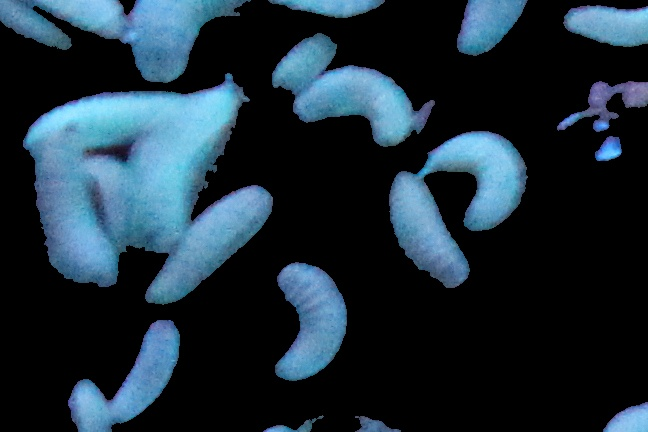larvae: (137, 188, 271, 297), (143, 80, 242, 226), (30, 142, 107, 284), (130, 1, 257, 80), (434, 135, 530, 235), (302, 71, 415, 139), (276, 262, 339, 383), (386, 186, 460, 285), (115, 325, 179, 420), (27, 95, 157, 141), (267, 28, 350, 88), (1, 1, 76, 64), (557, 6, 648, 53), (36, 1, 124, 44), (91, 147, 128, 243), (454, 1, 516, 56), (65, 374, 118, 432)
